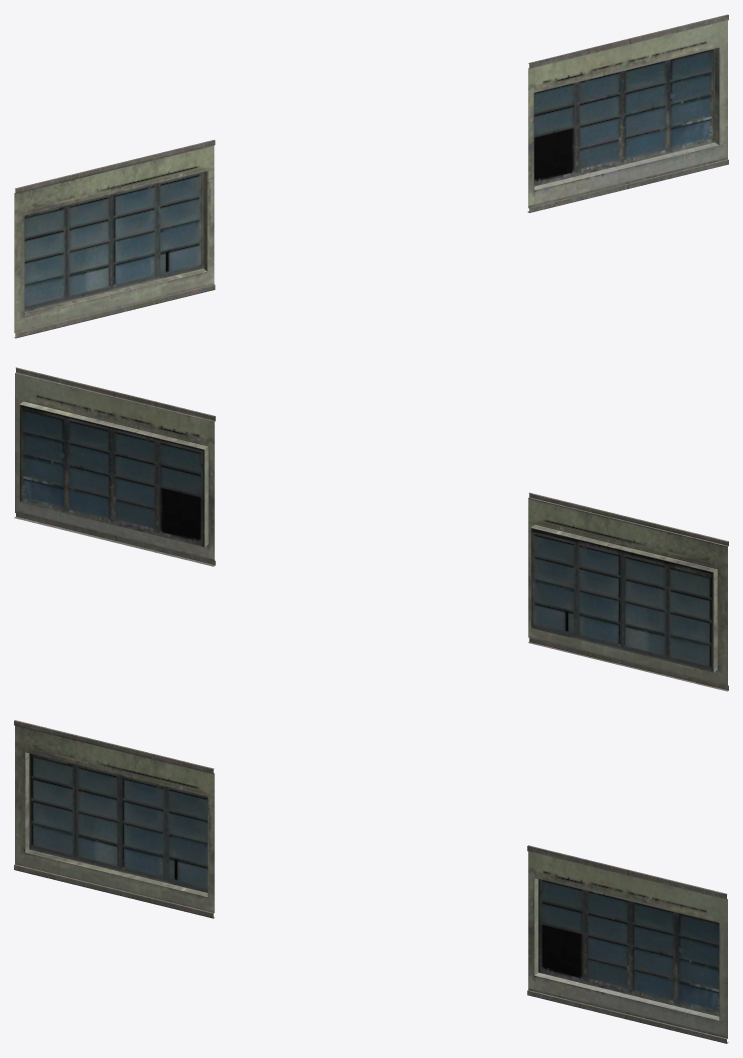
File: warehouse_building00_building01_2_0_lev1.glb
3 views of the same model, one above another, from view 1: azimuth 30°, elevation 25°; view 2: azimuth 150°, elevation 25°; view 3: azimuth 330°, elevation 25° (orthographic).
Parts seen in each view (by area): view 1: warehouse_building00_building01_2_0_lev1; view 2: warehouse_building00_building01_2_0_lev1; view 3: warehouse_building00_building01_2_0_lev1.
Boxes of the visible parts, <box> form: warehouse_building00_building01_2_0_lev1: <box>14,14,728,338</box>; warehouse_building00_building01_2_0_lev1: <box>14,367,728,691</box>; warehouse_building00_building01_2_0_lev1: <box>14,720,728,1043</box>.
Size of the model in its own units: 8.57 by 1.71 by 0.1072.
1 material, 1 textured.
